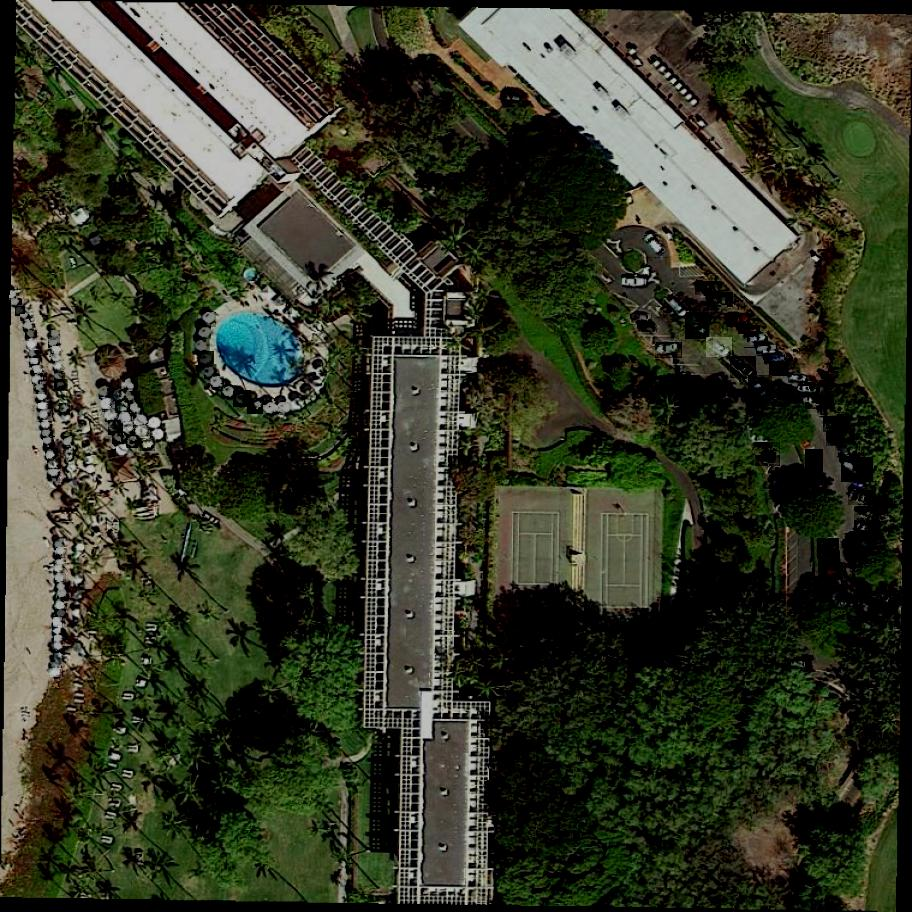small-vehicle: (841, 457, 873, 484), (665, 295, 692, 322), (748, 375, 774, 402), (685, 311, 709, 340), (645, 234, 669, 260), (730, 357, 756, 381), (706, 337, 733, 359), (836, 440, 861, 463), (818, 549, 840, 575), (827, 428, 856, 447), (817, 538, 840, 561), (804, 394, 835, 411), (805, 449, 824, 475), (854, 520, 881, 538), (655, 342, 683, 359), (824, 417, 851, 433), (849, 490, 877, 505), (706, 293, 734, 307), (819, 565, 843, 581), (744, 332, 768, 348), (756, 452, 780, 467), (726, 314, 751, 328), (754, 442, 780, 455), (855, 507, 879, 521), (764, 351, 787, 365), (769, 362, 790, 377), (696, 281, 720, 294), (637, 322, 657, 336), (819, 405, 844, 416), (622, 277, 644, 287), (630, 315, 652, 325), (785, 660, 807, 669), (738, 325, 760, 334), (756, 345, 777, 354), (797, 387, 819, 394), (788, 375, 807, 382)
storage-tank: (234, 391, 252, 409), (247, 399, 265, 415), (198, 351, 214, 368), (138, 436, 155, 452), (135, 425, 153, 440), (108, 421, 124, 436), (101, 398, 118, 412), (210, 376, 225, 391), (105, 408, 121, 422), (36, 409, 53, 422), (196, 325, 211, 339), (116, 444, 131, 458), (126, 434, 141, 448), (115, 400, 131, 413), (205, 364, 218, 379), (222, 386, 237, 399), (124, 421, 137, 436), (197, 339, 210, 353), (47, 458, 61, 471), (64, 447, 77, 461), (114, 389, 128, 402), (33, 384, 48, 396), (133, 415, 148, 427), (46, 470, 61, 482), (112, 432, 127, 444), (263, 402, 276, 415), (279, 402, 292, 415), (54, 599, 67, 612), (119, 412, 132, 425), (130, 404, 144, 416), (50, 362, 64, 374), (55, 380, 69, 392), (127, 391, 140, 403), (203, 313, 215, 326), (52, 352, 65, 364), (99, 386, 111, 398), (45, 449, 58, 460), (26, 339, 38, 350), (53, 650, 64, 662), (41, 429, 54, 439), (56, 549, 69, 559), (125, 379, 138, 389), (15, 306, 26, 317), (54, 539, 65, 550), (55, 642, 66, 653), (49, 338, 60, 349), (60, 403, 71, 414), (10, 298, 22, 308), (55, 582, 67, 592), (52, 627, 65, 636), (24, 321, 34, 332), (56, 574, 67, 584), (51, 669, 63, 678), (40, 421, 52, 430), (56, 557, 66, 567), (55, 372, 65, 382), (38, 403, 49, 412), (55, 609, 66, 618), (55, 635, 66, 644), (54, 617, 63, 627), (63, 436, 72, 446), (32, 366, 43, 374), (54, 565, 65, 573), (32, 375, 41, 384), (9, 290, 17, 300), (37, 394, 47, 402), (52, 346, 62, 354), (26, 331, 37, 338), (57, 591, 67, 598), (50, 331, 60, 338), (30, 359, 41, 365), (43, 439, 53, 445), (30, 351, 38, 358), (53, 661, 62, 667), (21, 315, 29, 320)
